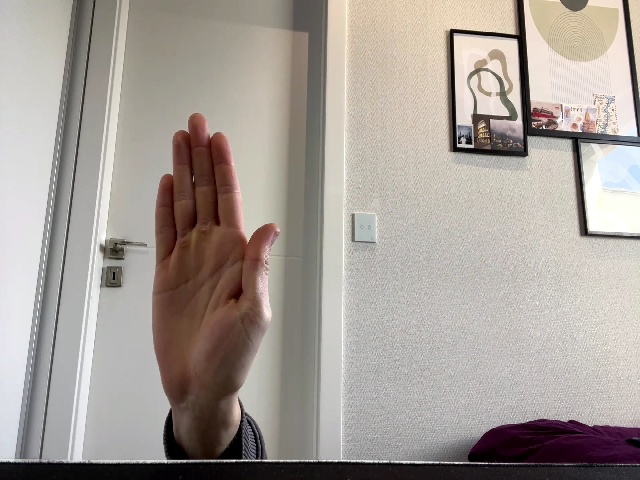B: (151, 113, 280, 407)
